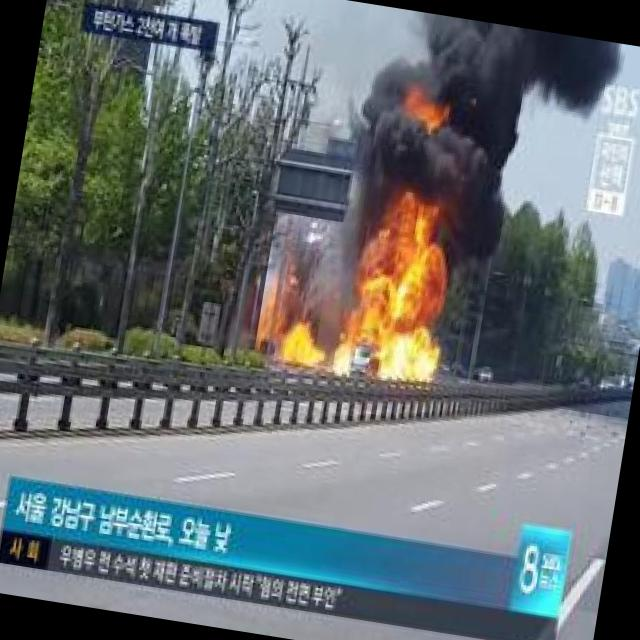Fire: (342, 201, 462, 385), (275, 318, 322, 362), (261, 267, 286, 341)
Smoke: (368, 8, 618, 230)
